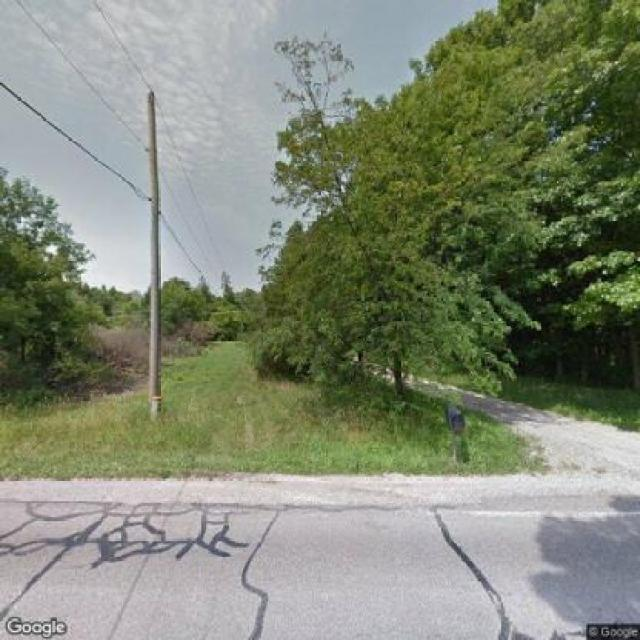pole: (130, 84, 179, 408)
